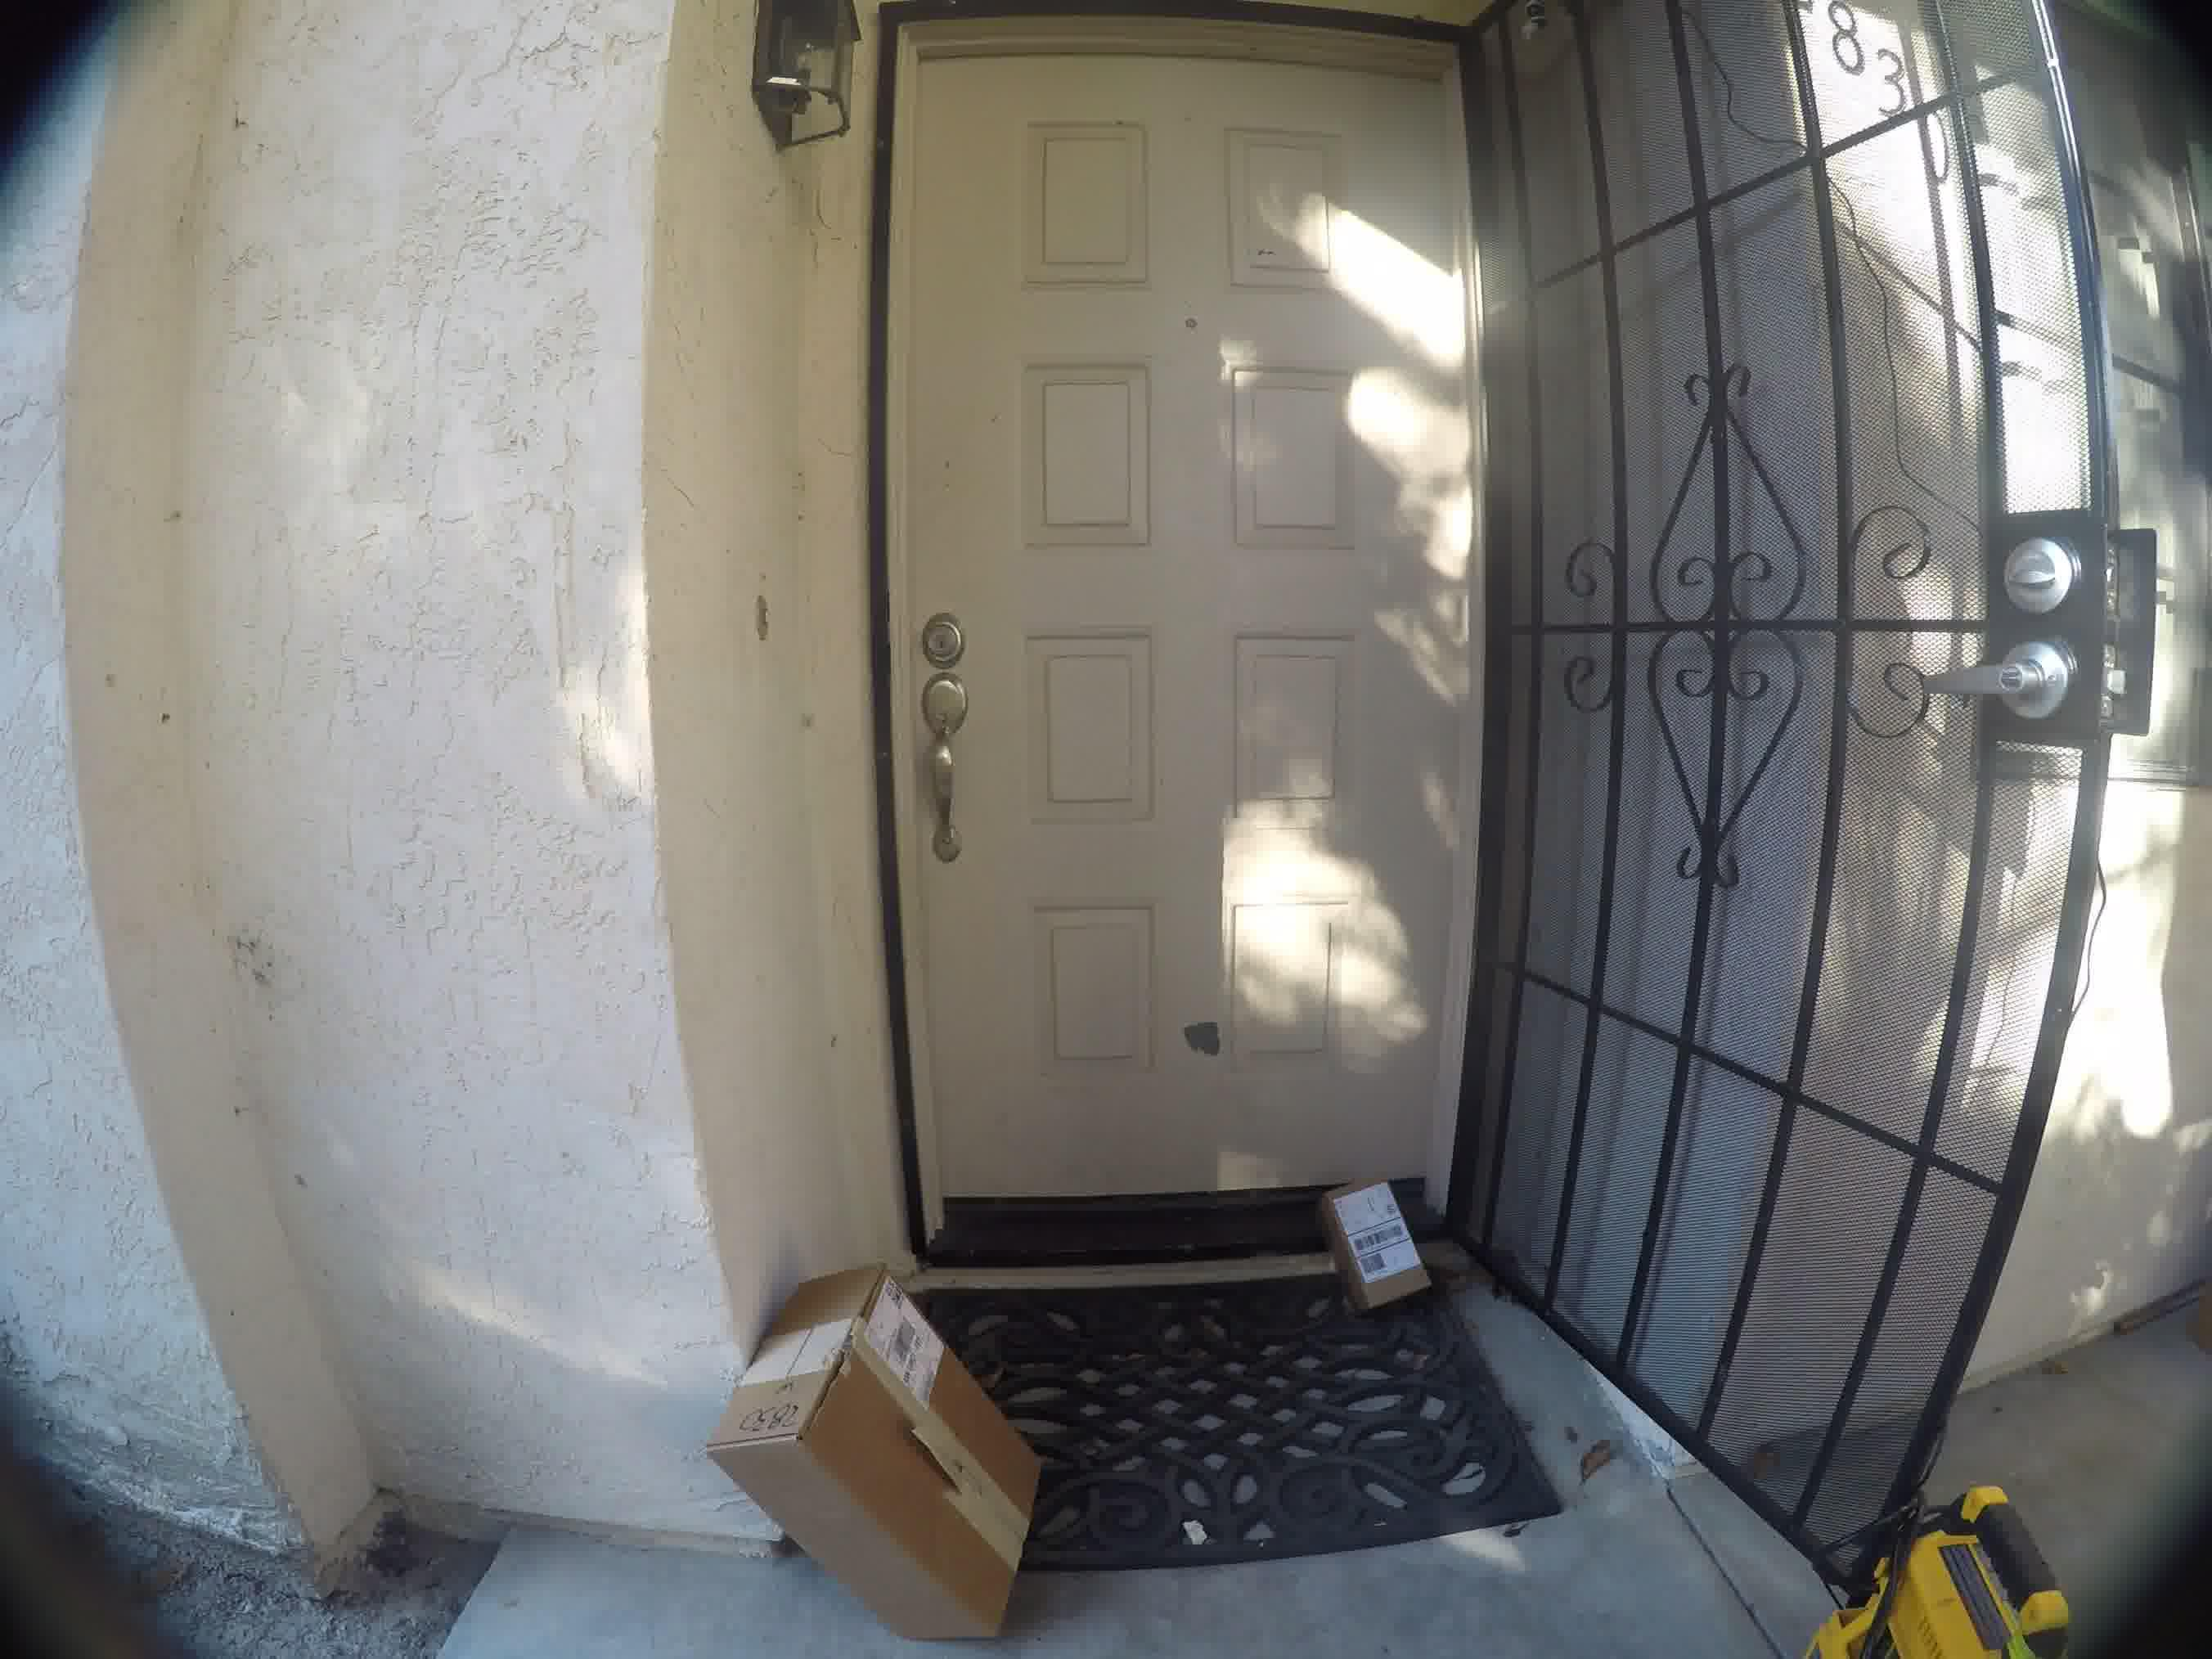box: (711, 1234, 1042, 1659), (1308, 1176, 1430, 1302)
